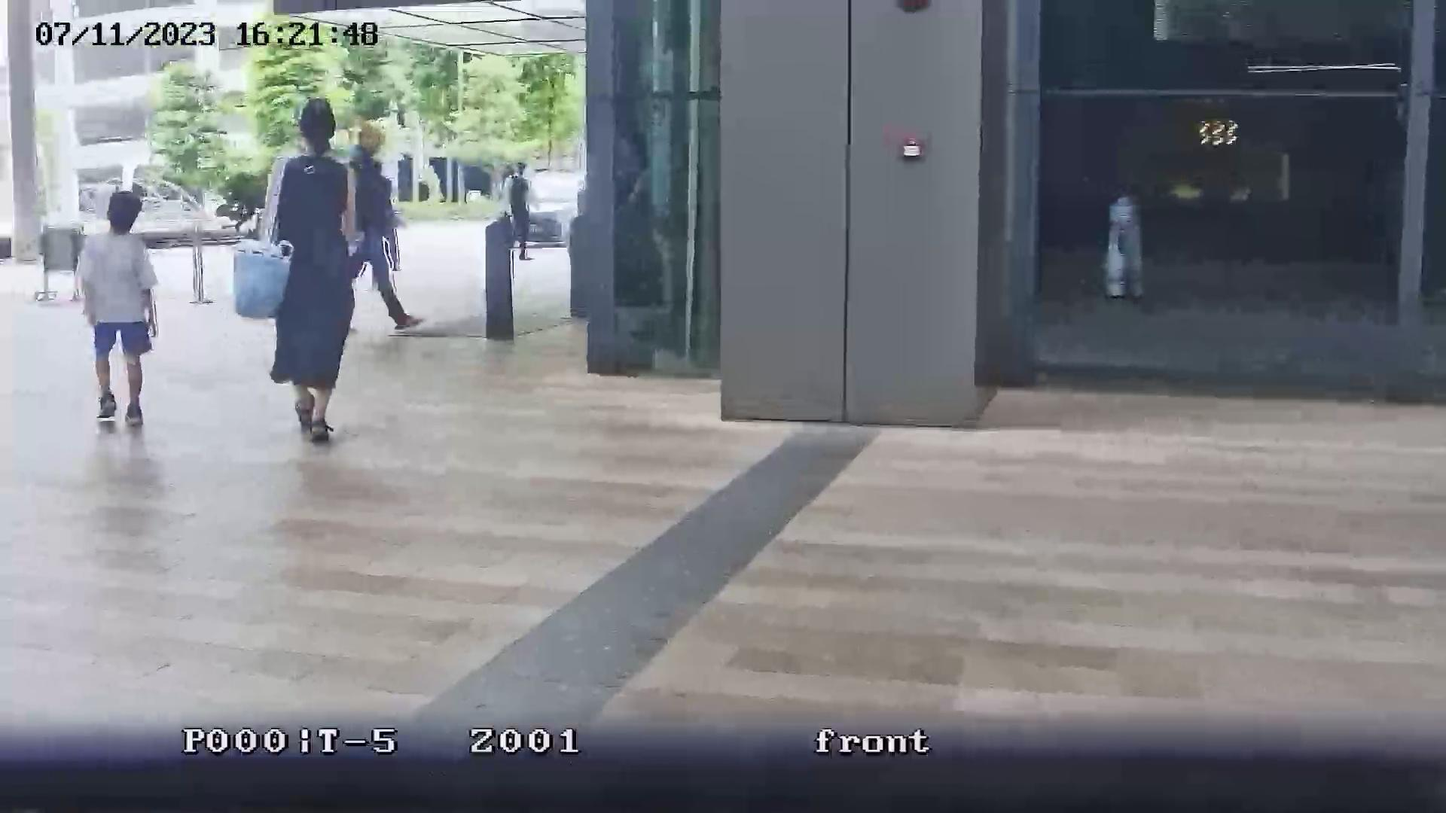person: (258, 96, 358, 443), (74, 190, 158, 424), (348, 121, 425, 330), (508, 163, 533, 260)
